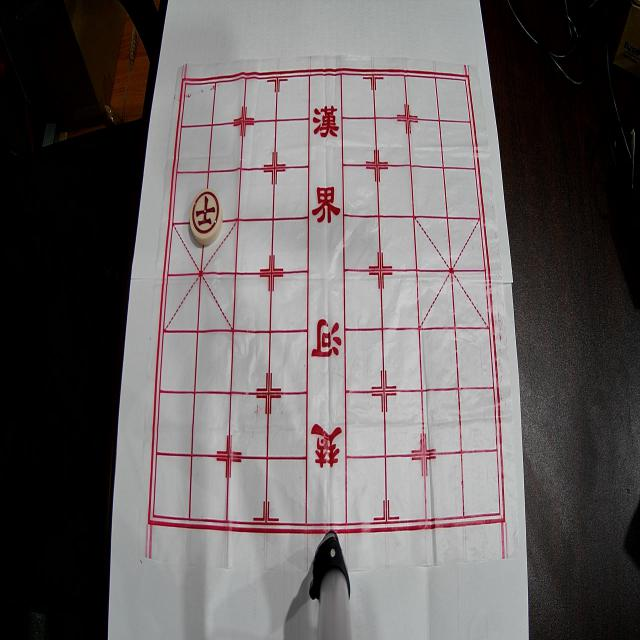red-advisor: (190, 189, 222, 245)
